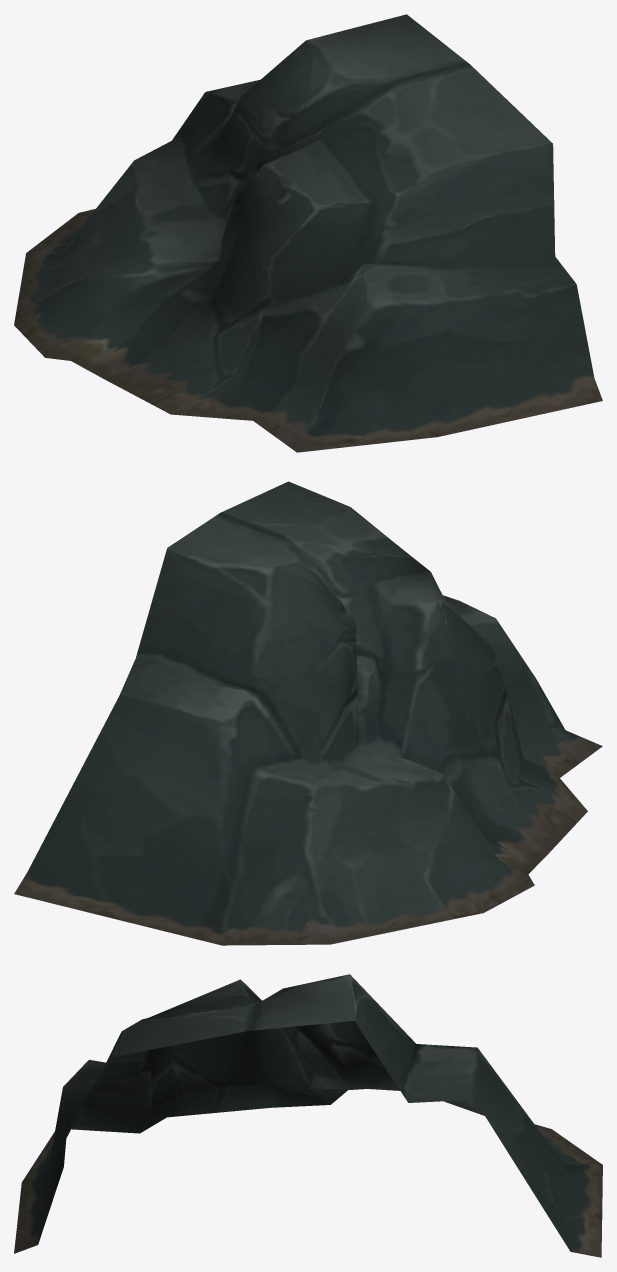
Rendered from oTerHill01b.FBX.
3 renders of one model, top to bottom at view 1: azimuth 30°, elevation 25°; view 2: azimuth 150°, elevation 25°; view 3: azimuth 270°, elevation 25°, orthographic. The views are drawn at different scales.
Parts seen in each view (by area): view 1: oTerHill01b; view 2: oTerHill01b; view 3: oTerHill01b.
Part boxes in pixels (x1=…): oTerHill01b: x1=14, y1=14, x2=602, y2=452; oTerHill01b: x1=14, y1=481, x2=602, y2=945; oTerHill01b: x1=14, y1=974, x2=602, y2=1257.
Size of the model in its own units: 52.18 by 75.68 by 32.61.
